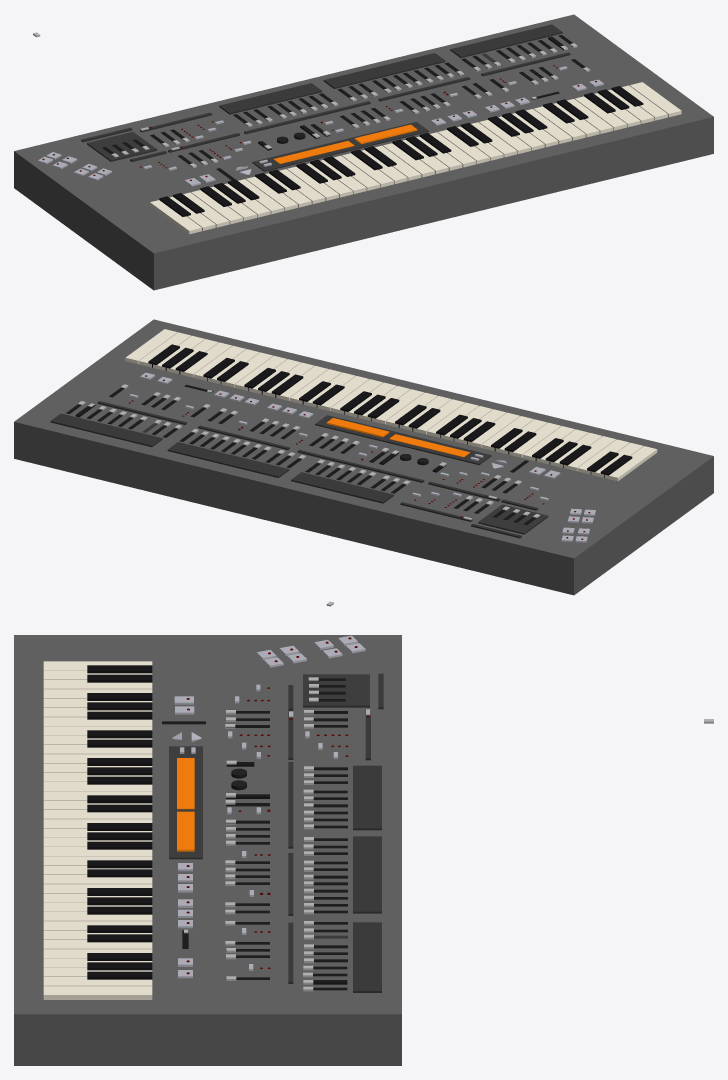
3 renders of one model, top to bottom at view 1: azimuth 30°, elevation 25°; view 2: azimuth 150°, elevation 25°; view 3: azimuth 270°, elevation 25°, orthographic. The views are drawn at different scales.
Parts seen in each view (by area): view 1: synth_body.1, panel1.1, panel3, panel3.1, panel2, panel1, Key_C1, Key_C6, panel1.2, Key_F1, Key_C3, Key_F3 (+18 smaller); view 2: synth_body.1, panel1.1, panel3, panel3.1, panel2, panel1, Key_C1, Key_C6, panel1.2, Key_F4, Key_C4, Key_C3 (+8 smaller); view 3: synth_body.1, panel1.1, panel3, panel3.1, panel1, panel2, Key_C6, Key_E3, Key_E5, Key_E4, Key_B2, Key_E2 (+17 smaller).
Boxes of the visible parts, x1,y1,x2,y2 form: synth_body.1: (14,14,713,290); panel1.1: (252,122,428,171); panel3: (323,53,445,88); panel3.1: (450,24,562,57); panel2: (219,83,321,114); panel1: (87,132,157,161); Key_C1: (150,200,201,234); Key_C6: (629,82,681,117); panel1.2: (273,141,354,163); Key_F1: (191,190,243,224); Key_C3: (342,153,393,187); Key_F3: (383,143,434,177); synth_body.1: (14,319,713,595); panel1.1: (315,415,491,465); panel3: (167,442,289,477); panel3.1: (50,413,162,447); panel2: (291,472,393,503); panel1: (478,504,548,534); Key_C1: (605,446,657,481); Key_C6: (125,329,177,364); panel1.2: (389,434,470,457); Key_F4: (276,366,328,400); Key_C4: (317,376,369,410); Key_C3: (413,399,465,434); synth_body.1: (14,635,401,1065); panel1.1: (169,746,202,859); panel3: (353,836,381,913); panel3.1: (353,922,381,992); panel1: (303,674,369,707); panel2: (353,765,381,830); Key_C6: (43,986,152,999); Key_E3: (43,810,152,819); Key_E5: (43,940,152,949); Key_E4: (43,875,152,884); Key_B2: (43,782,152,791); Key_E2: (43,745,152,754).
Size of what is drawn, in the model's own units: 7.96 by 0.574 by 6.21.
